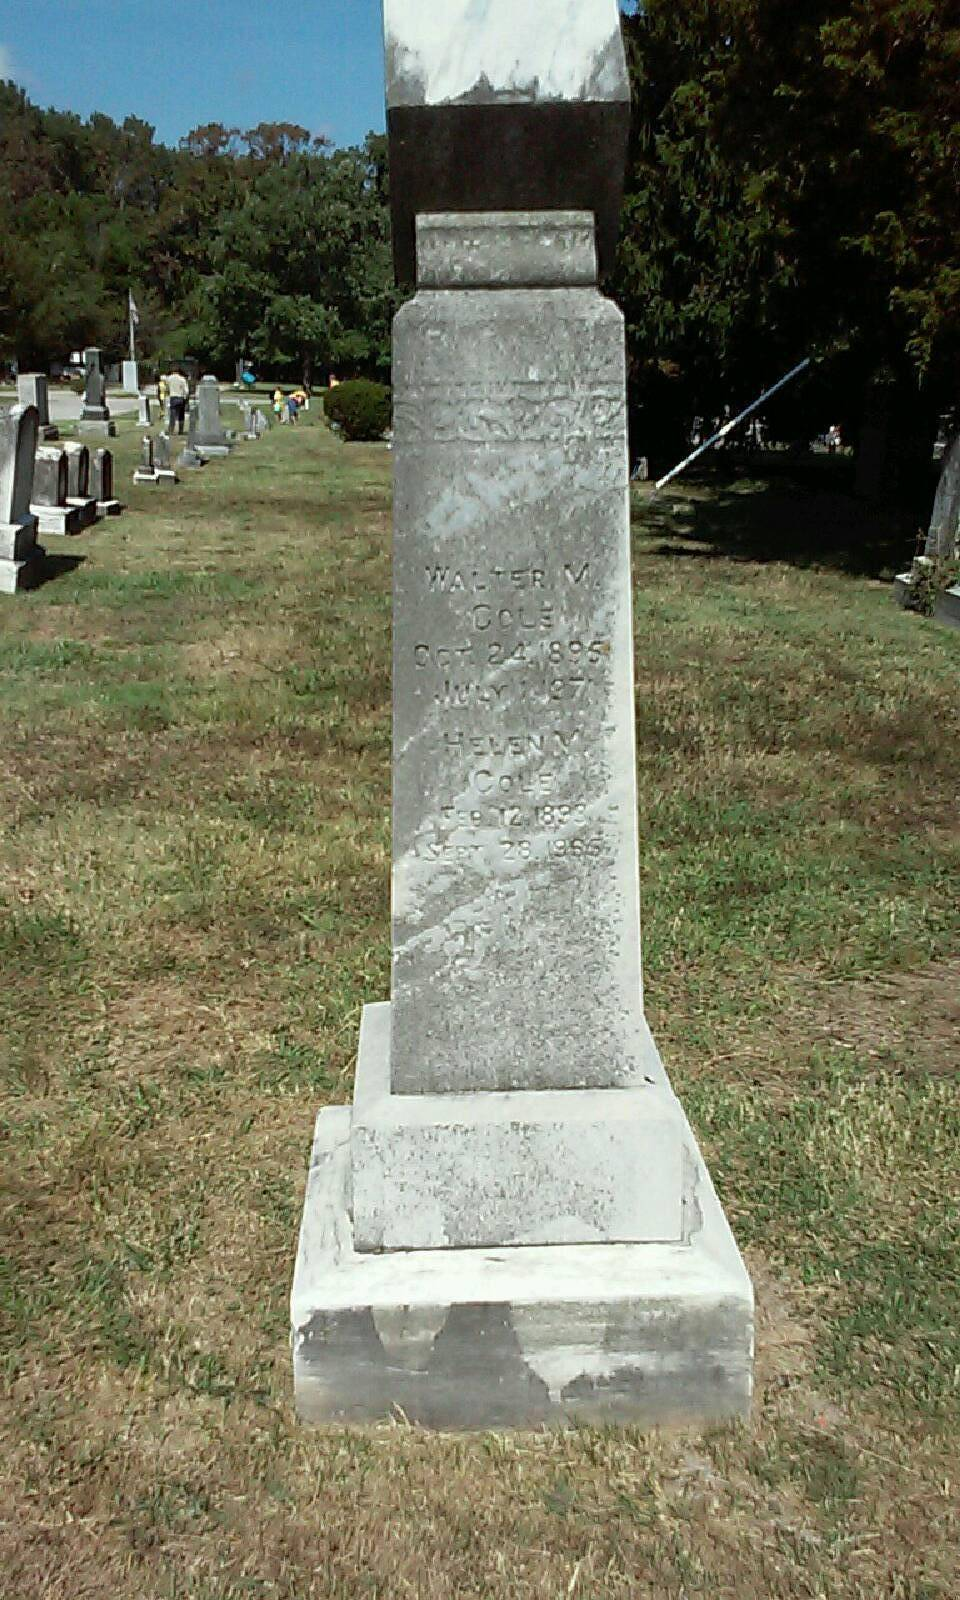obelisk: (227, 21, 842, 1464)
